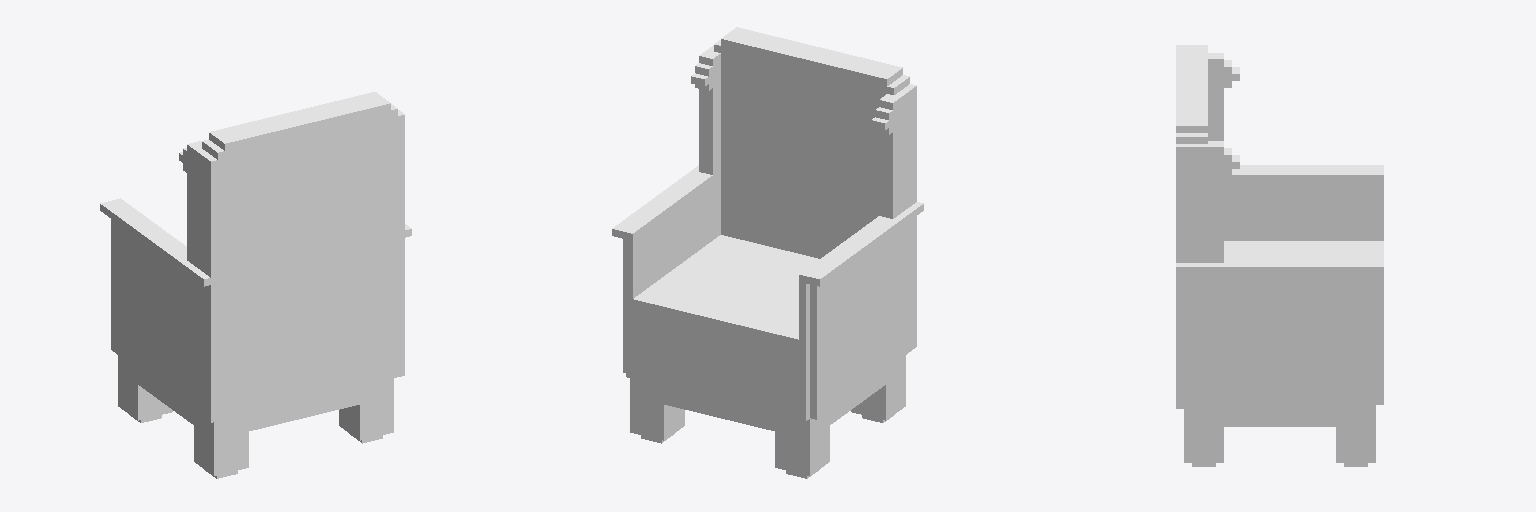
Rendered from chair5.obj.
3 renders of one model, left to right at view 1: azimuth 30°, elevation 25°; view 2: azimuth 150°, elevation 25°; view 3: azimuth 270°, elevation 25°, orthographic.
Visible parts, largest first — view 1: object 1; view 2: object 1; view 3: object 1.
Boxes of the visible parts, <box> form: object 1: <box>100,92,411,478</box>; object 1: <box>612,27,923,478</box>; object 1: <box>1176,45,1383,466</box>.
Bounding box in the file's own units: 3 × 4.7 × 2.6.